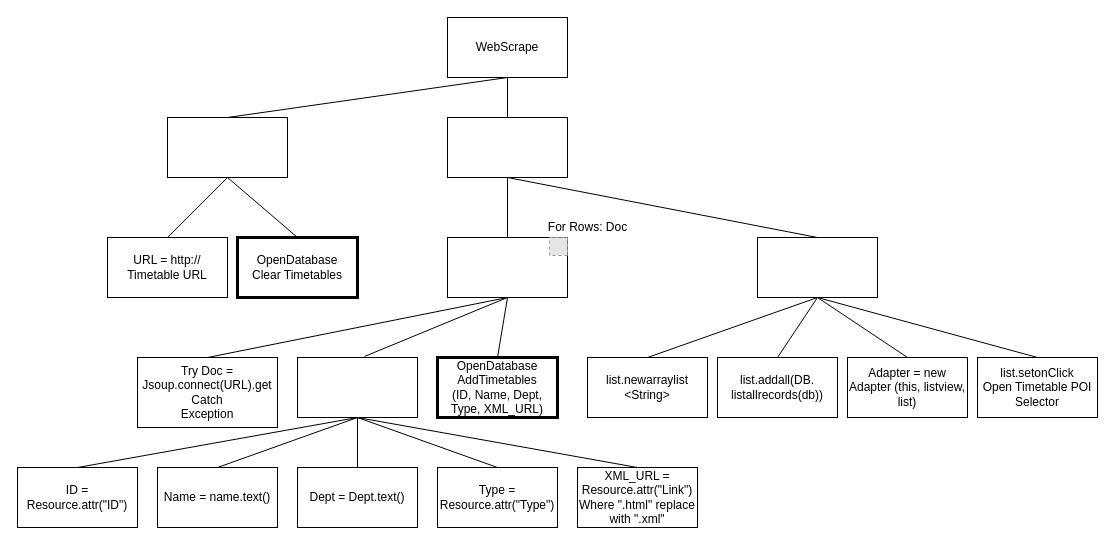
Image size: 1115x545. Some labels were removed from this diagram. Grey dashed boxes stand in for pictures. The box of each missing label's shape, as (x1, y1, x2, y2) in pixels:
Display List: (756, 236, 878, 298)
Initialise: (166, 116, 288, 178)
Process Parse: (296, 356, 418, 418)
Process Scrape: (446, 236, 568, 298)
Process WebScrape: (446, 116, 568, 178)
